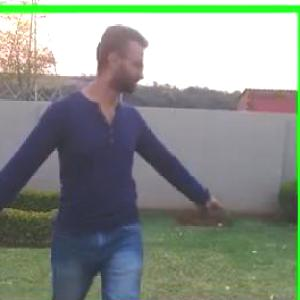land: (0, 15, 239, 299)
